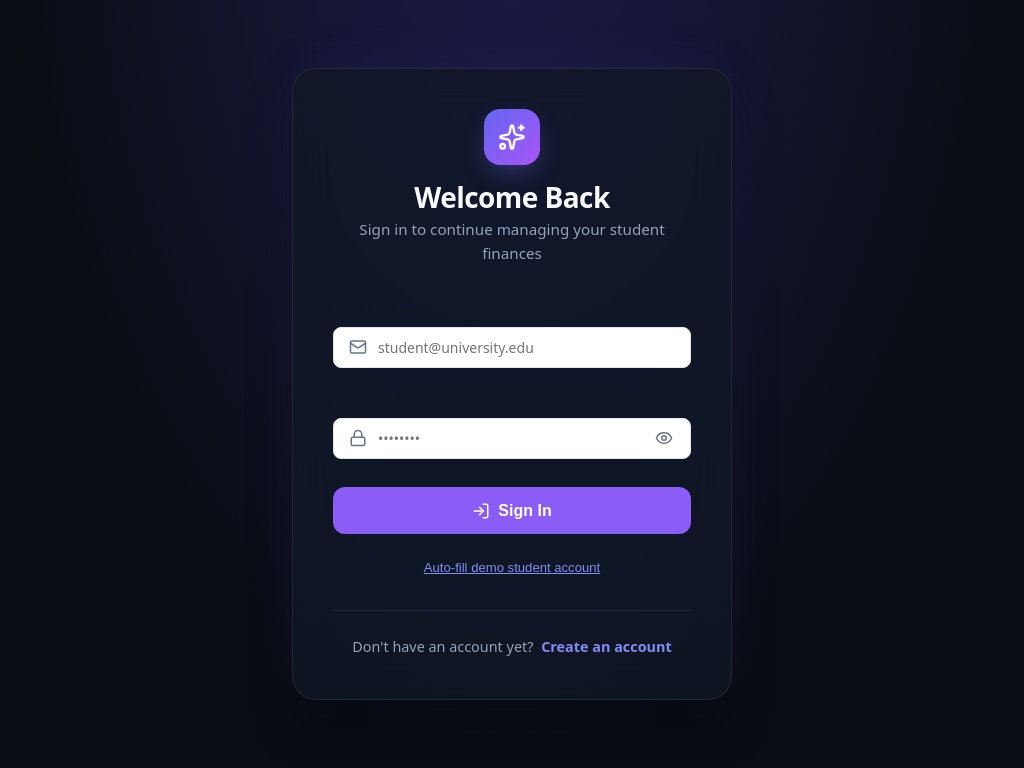
Lumina Finance Frontend Security & QA Suite › 28. Login Form Validation › shows validation error when submitted with empty fields
Step 1. Click the button "Sign In" → coordinates (512, 510), box left=333, top=487, right=691, bottom=534
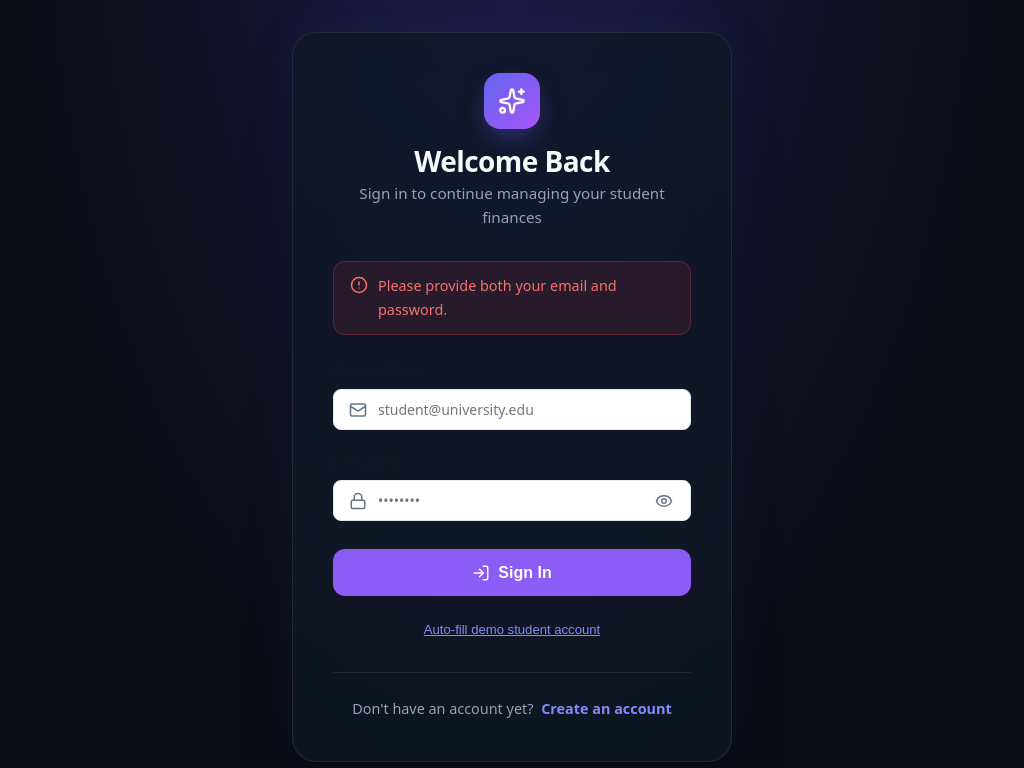
Result: the text "Please provide both your email and password." is shown at left=378, top=276, right=617, bottom=319
